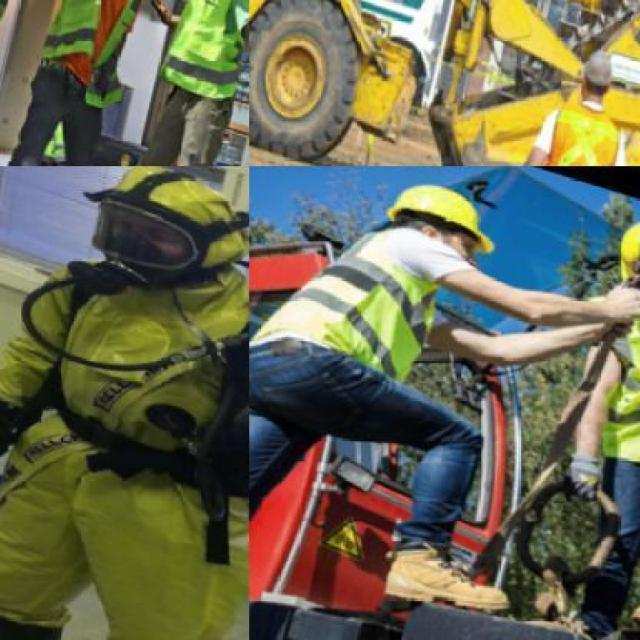vest: (0, 223, 248, 639), (254, 184, 457, 390), (31, 0, 163, 111), (586, 259, 639, 486), (157, 0, 248, 108), (532, 86, 631, 165)
